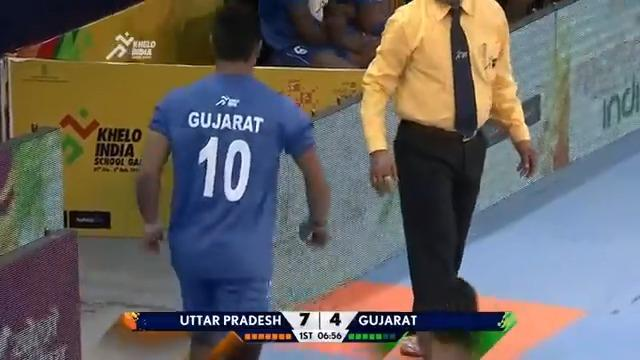Player: (134, 4, 331, 358)
referee: (359, 0, 538, 358)
